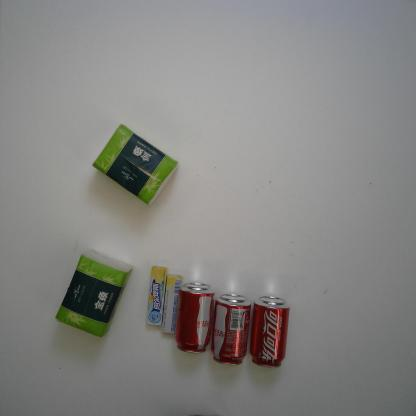Candy: (161, 274, 183, 334), (146, 266, 167, 326)
Drink: (210, 292, 252, 366), (249, 295, 291, 369), (174, 281, 216, 354)
Tissue: (91, 123, 180, 206), (54, 249, 133, 339)
